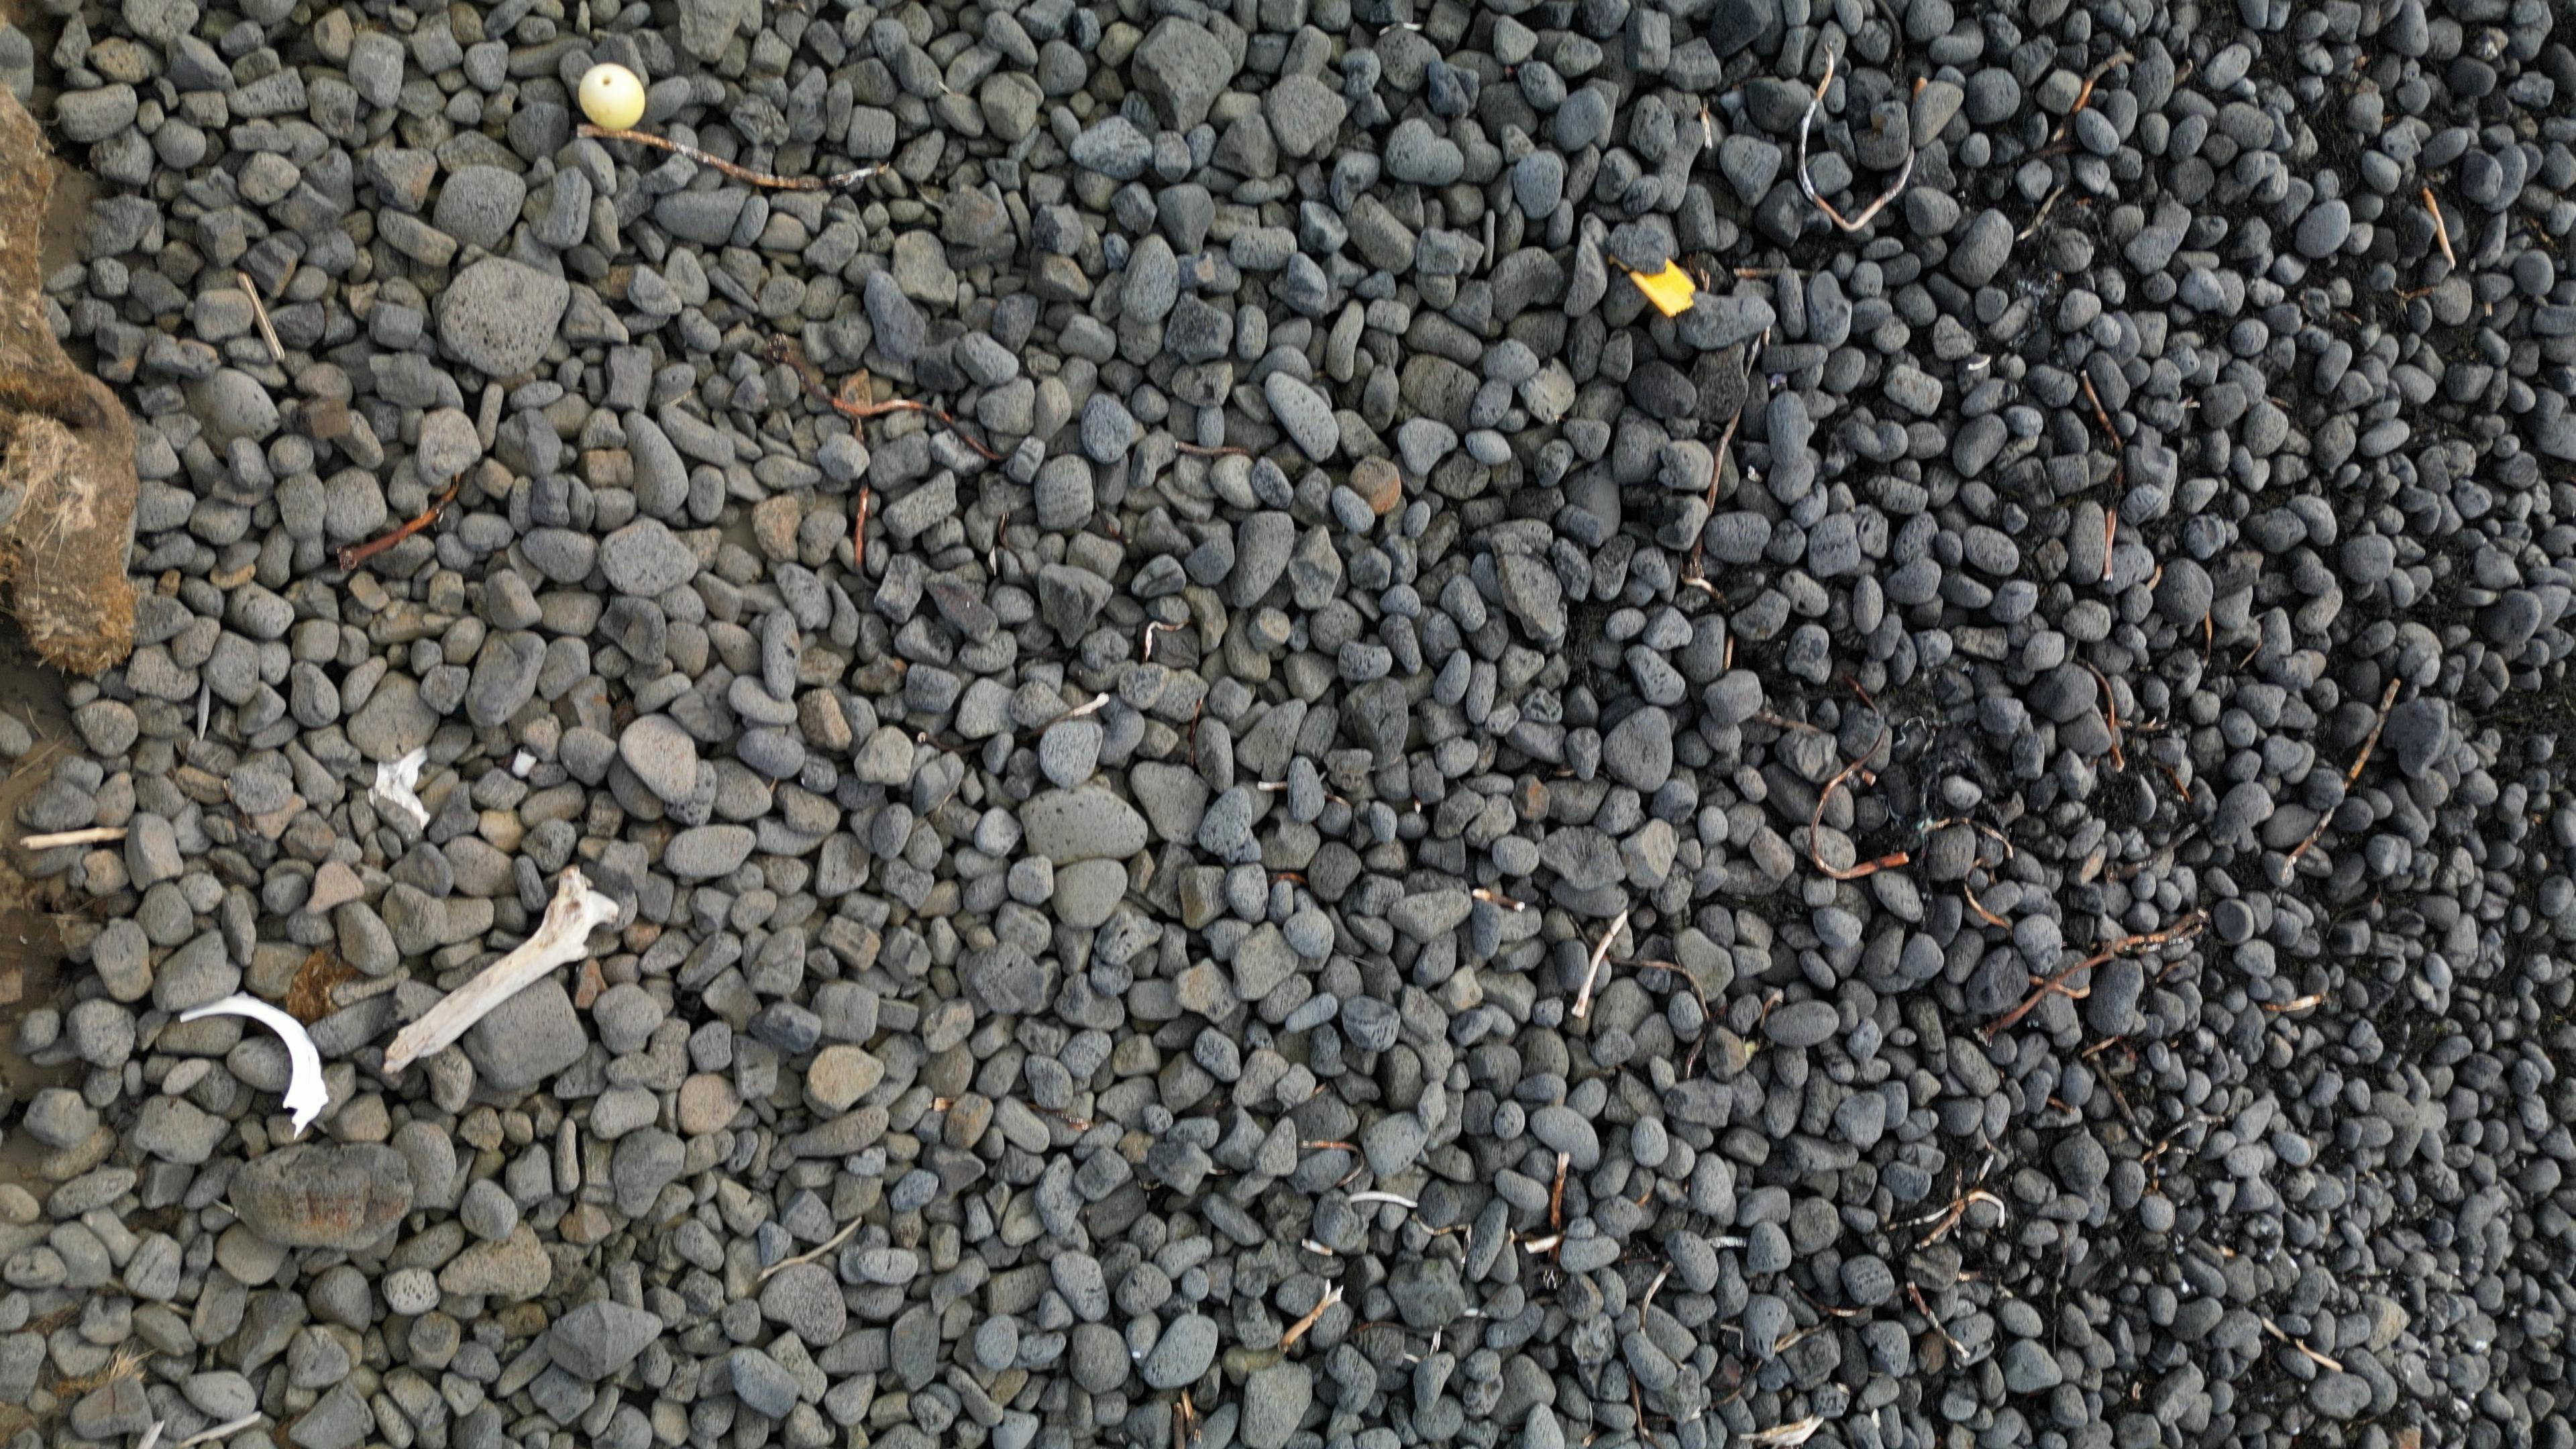trash: (180, 991, 327, 1138), (579, 60, 644, 131), (1629, 262, 1695, 317)
